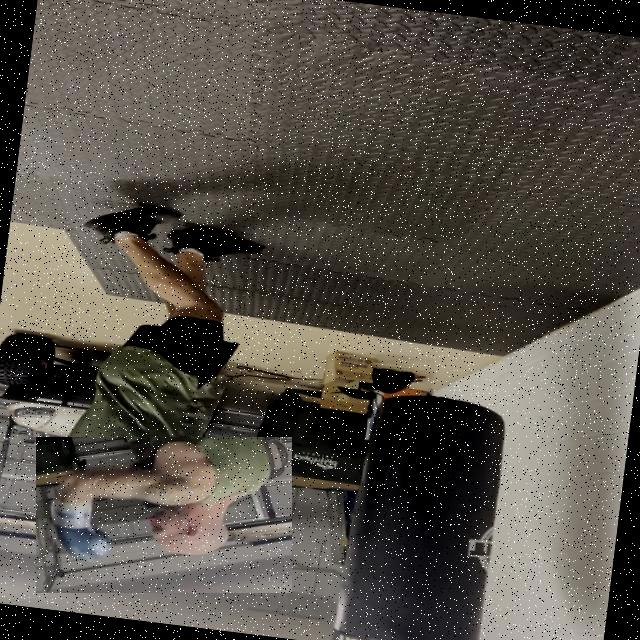punch: (36, 437, 292, 593)
